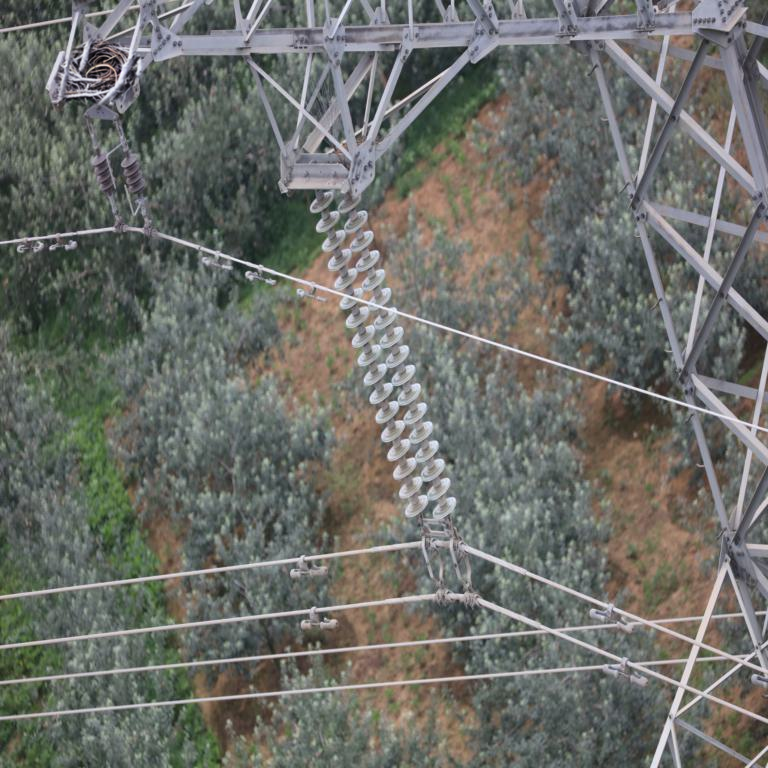nest: (65, 48, 131, 98)
